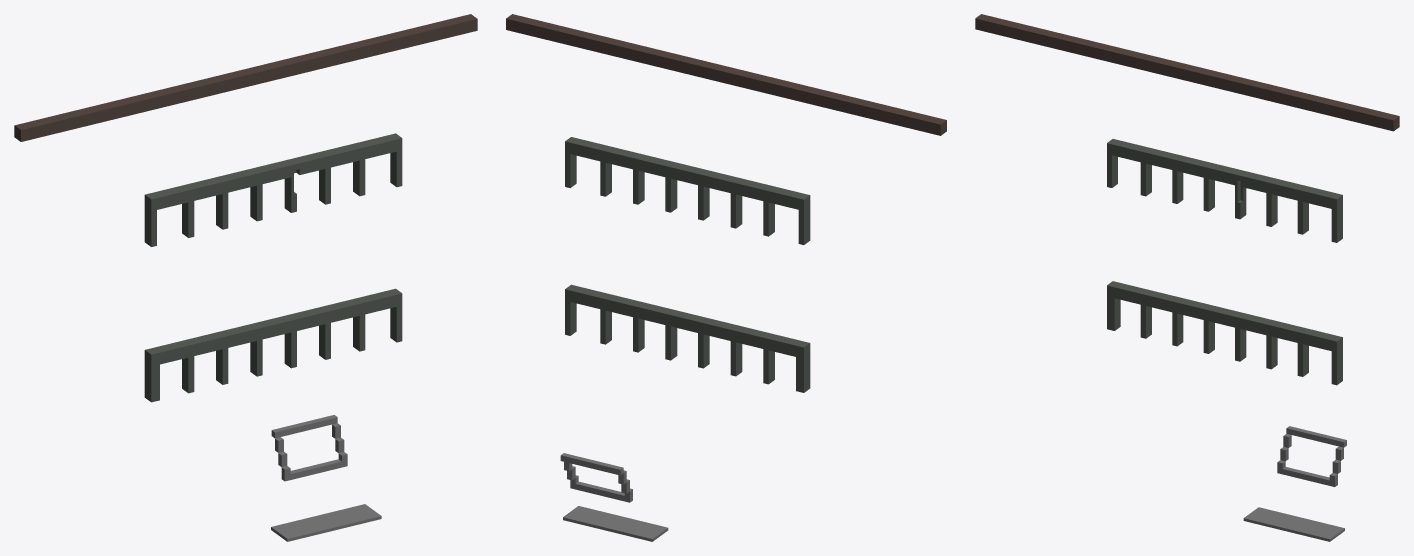
Rendered from baeto 2.0 metallo1.obj.
3 renders of one model, left to right at view 1: azimuth 30°, elevation 25°; view 2: azimuth 150°, elevation 25°; view 3: azimuth 330°, elevation 25°, orthographic. The views are drawn at different scales.
Size of the model in its own units: 16 by 16.4 by 2.8.
Materials: 1 (1 with a texture image).
